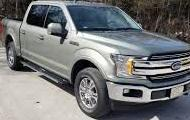Trucks: (5, 2, 190, 118)
